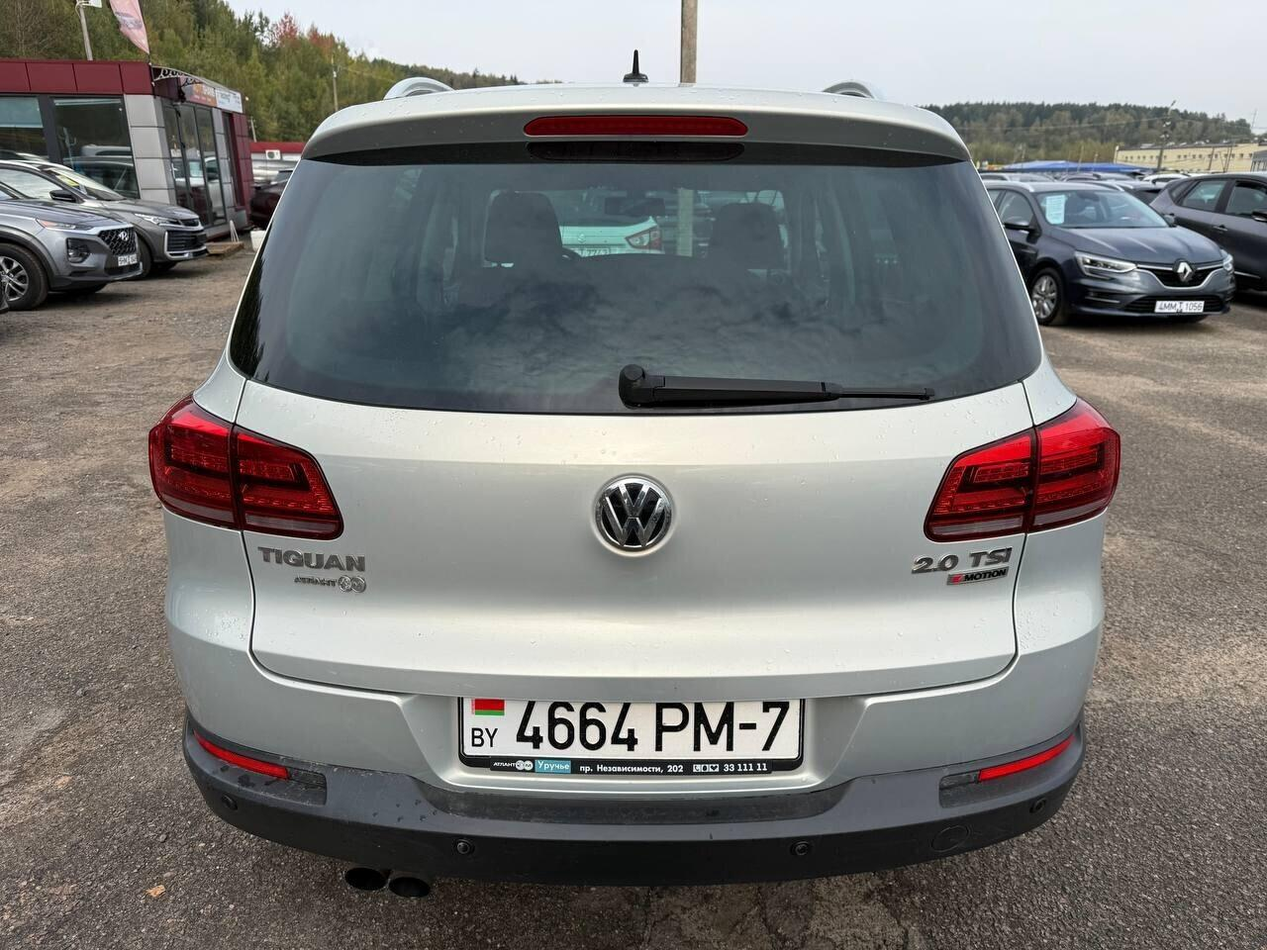Tiguan_2011-2018: (111, 84, 1128, 883)
